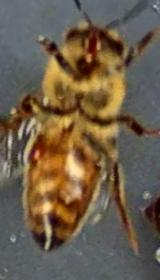varroa_mite: (19, 135, 46, 167)
